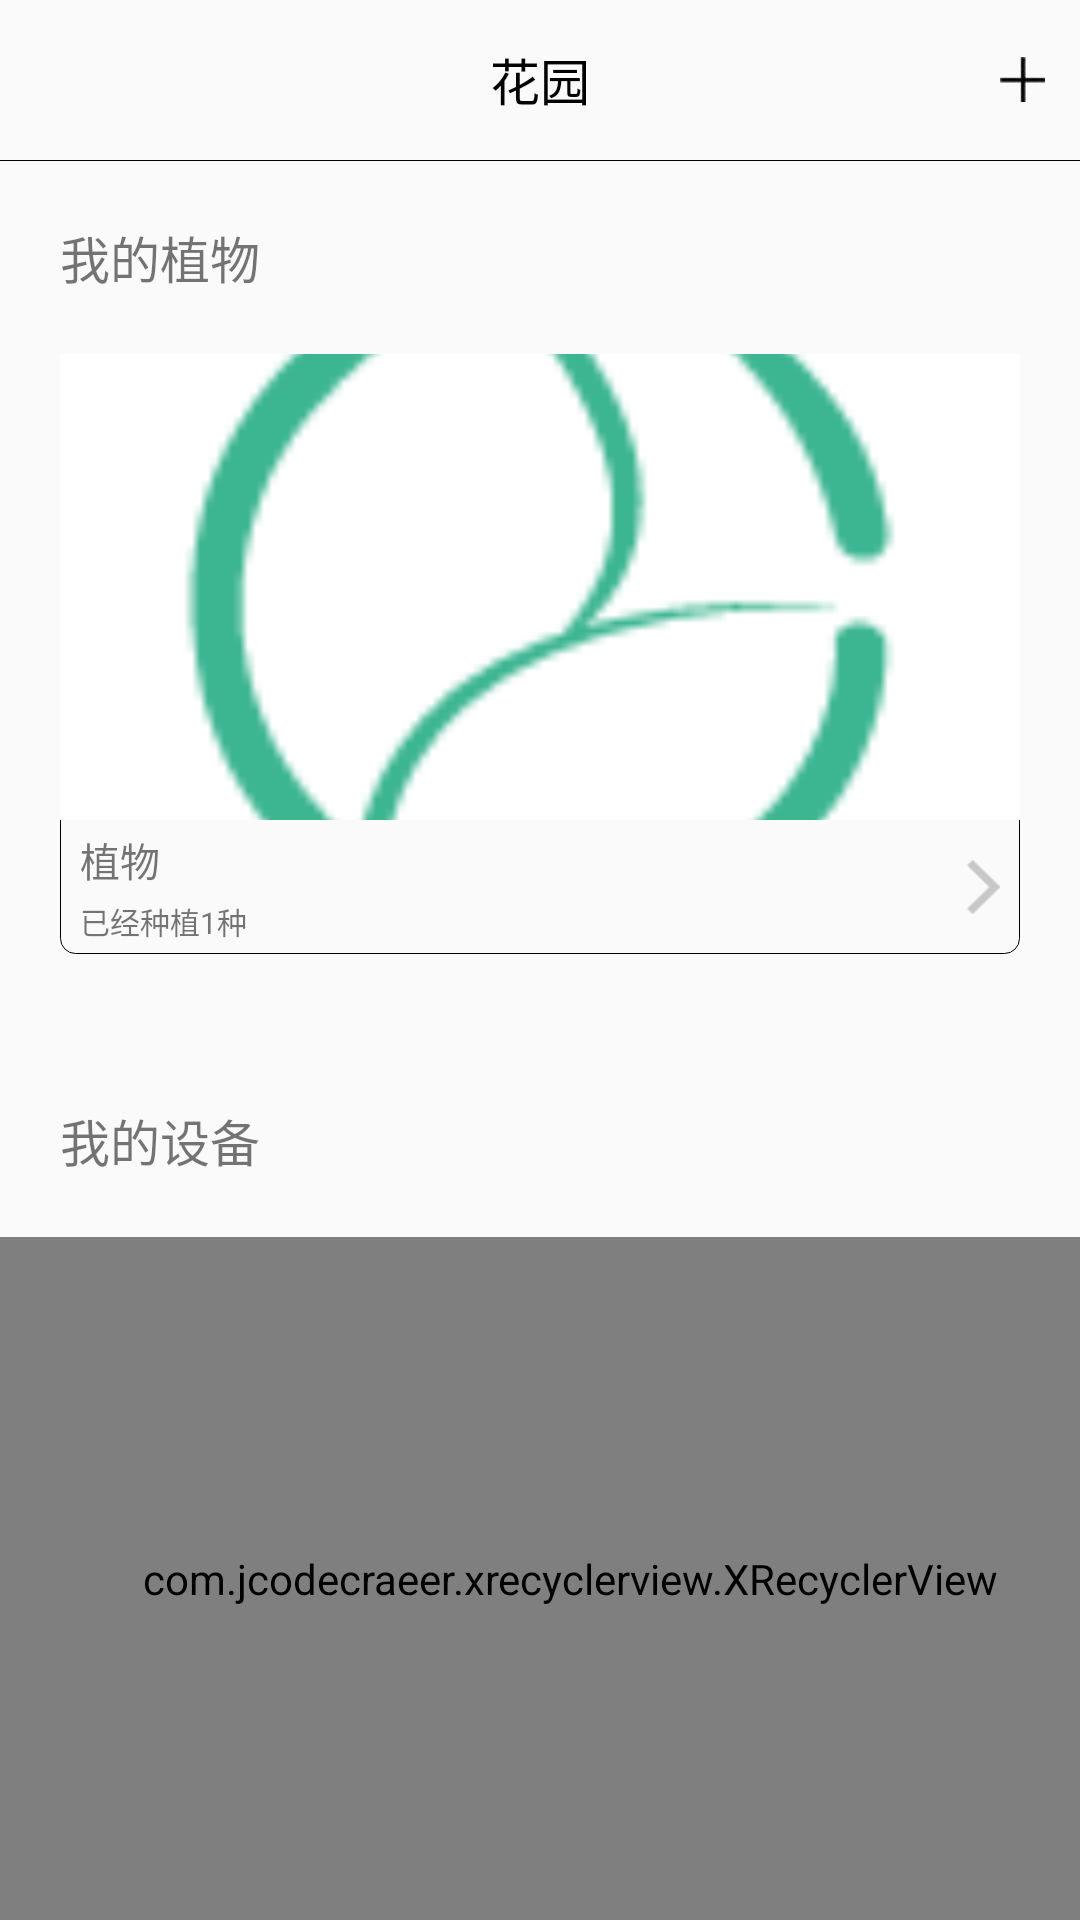

Named icons in this screenshot (1080px x 1920px) and their bounding boxes, (x1, y1, x2, y2):
append: (1000, 57, 1045, 102)
forward: (968, 860, 1000, 914)
